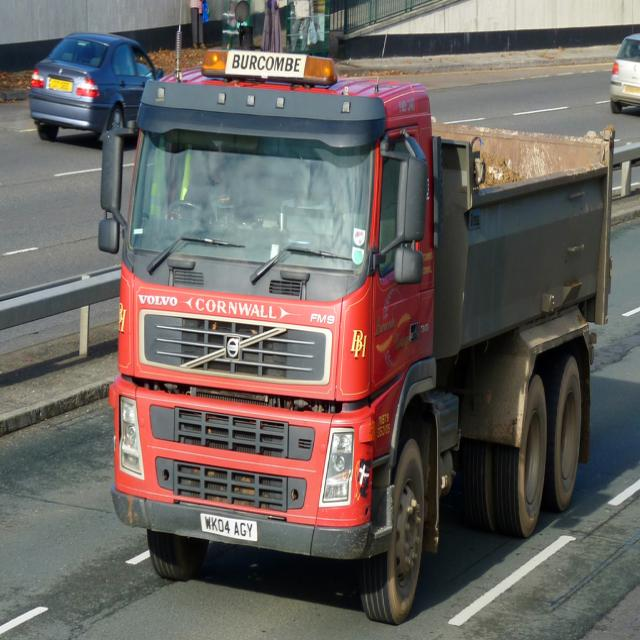Heavy Duty Truck: (94, 46, 620, 628)
Passenger Car: (27, 28, 135, 152), (603, 24, 640, 120)
